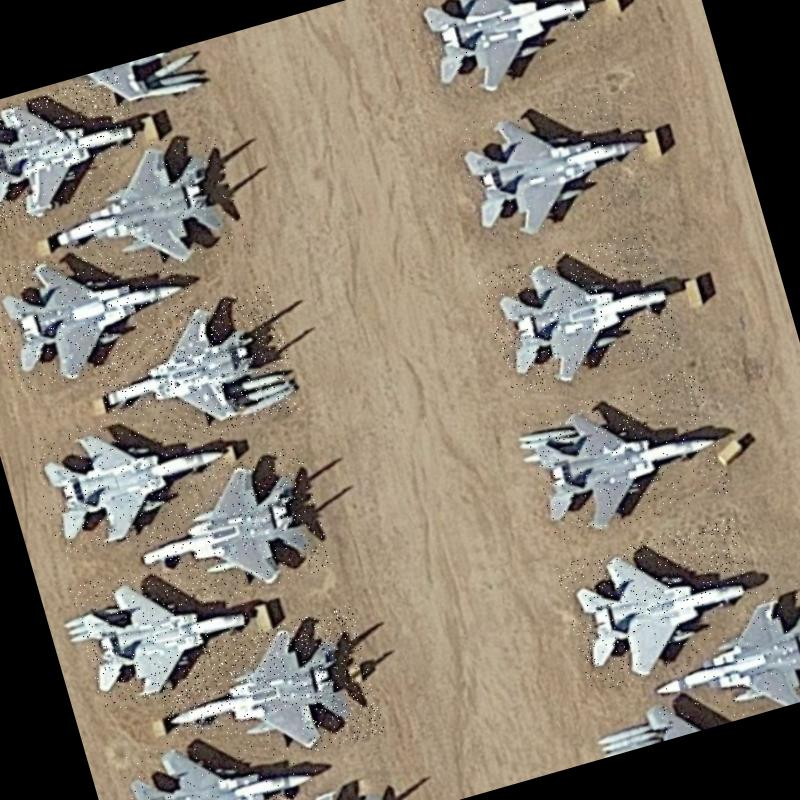A13: (150, 604, 386, 788), (26, 122, 250, 300), (83, 283, 303, 461), (555, 514, 771, 692), (26, 388, 244, 561), (120, 443, 334, 619), (522, 366, 734, 543), (0, 218, 207, 399), (476, 226, 684, 399), (449, 78, 658, 248), (68, 540, 262, 714), (633, 571, 800, 739), (0, 71, 151, 233), (400, 0, 605, 110), (113, 705, 333, 800)
